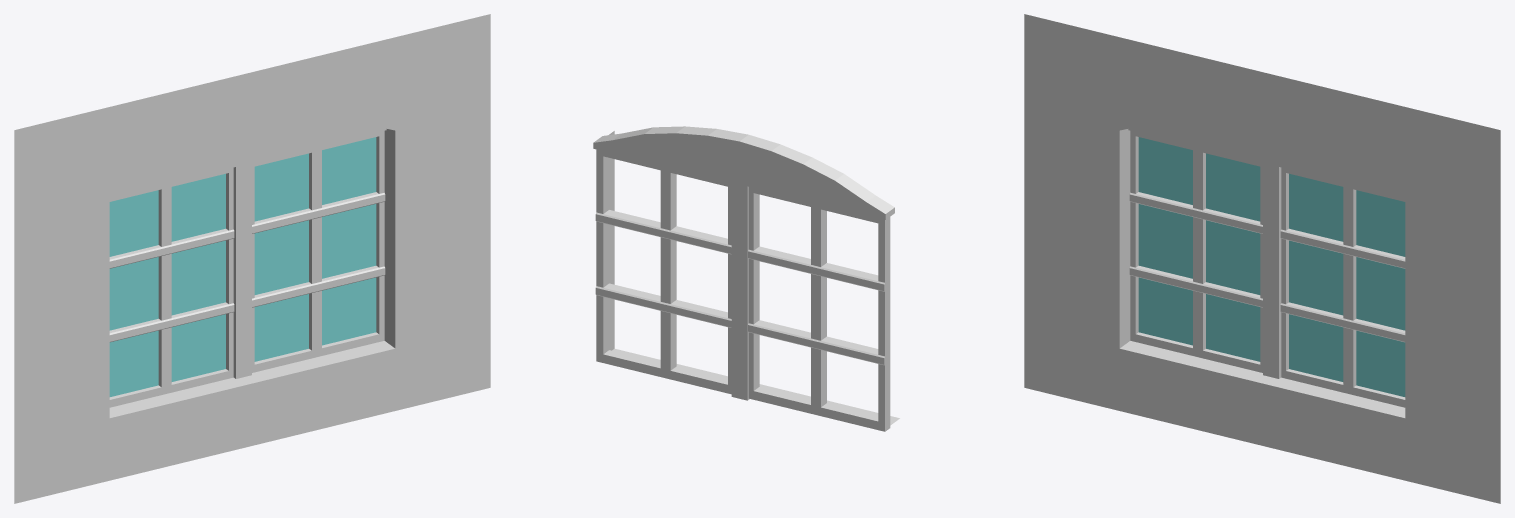
File: Brick_Window_CurvedDouble.gltf
The picture shows the model from 3 angles, left to right: view 1: azimuth 30°, elevation 25°; view 2: azimuth 150°, elevation 25°; view 3: azimuth 330°, elevation 25°; orthographic projection.
Parts seen in each view (by area): view 1: Brick_Window_CurvedDouble; view 2: Brick_Window_CurvedDouble; view 3: Brick_Window_CurvedDouble.
Part boxes in pixels (x1,y1,x2,y2): Brick_Window_CurvedDouble: (14, 14, 490, 503); Brick_Window_CurvedDouble: (593, 126, 899, 431); Brick_Window_CurvedDouble: (1024, 14, 1500, 503).
Size of the model in its own units: 4 by 3 by 0.2605.
